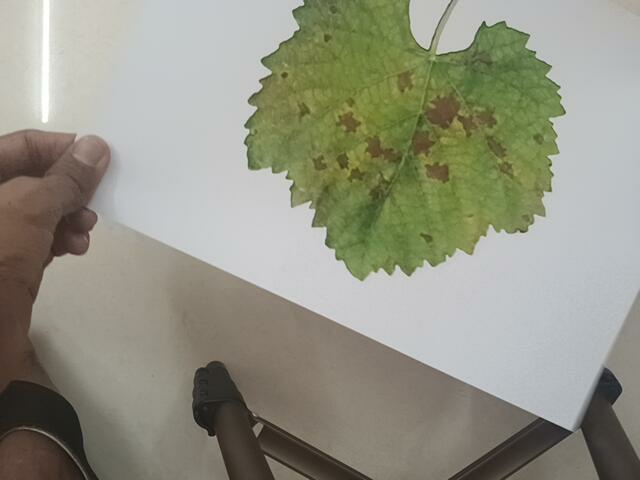Grape_Leaf_Vine_Disease: (272, 5, 542, 303)
